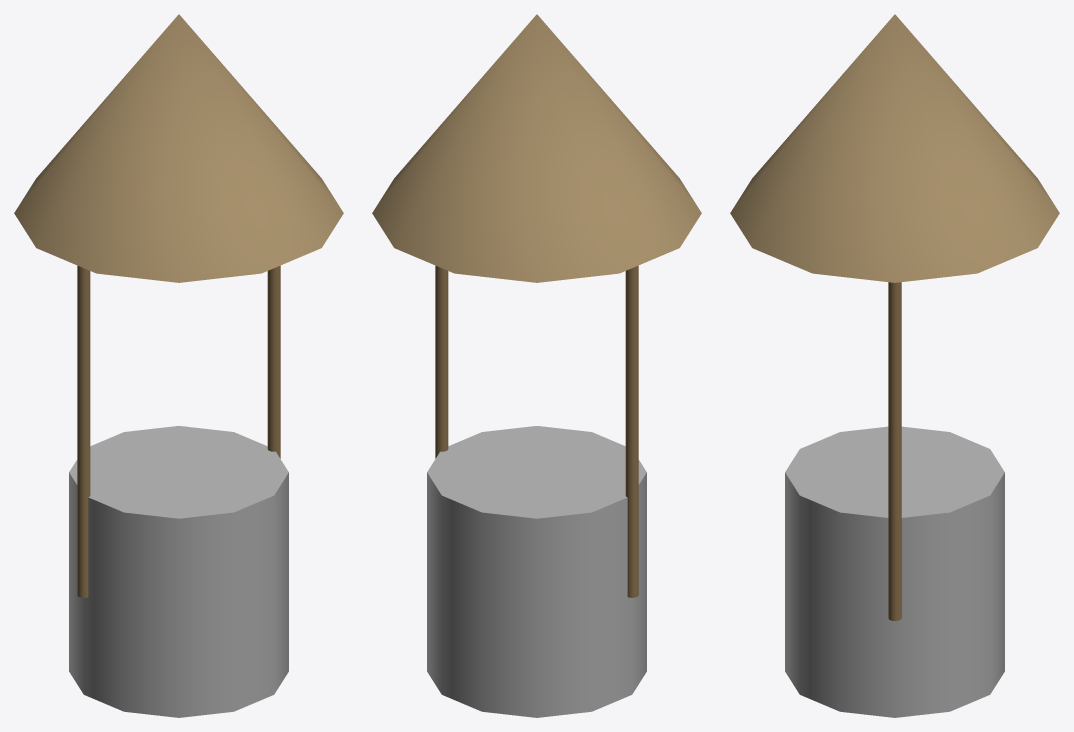
Rendered from env-med-well.glb.
3 renders of one model, left to right at view 1: azimuth 30°, elevation 25°; view 2: azimuth 150°, elevation 25°; view 3: azimuth 270°, elevation 25°, orthographic.
Bounding box in the file's own units: 1.5 × 3.3 × 1.5.
